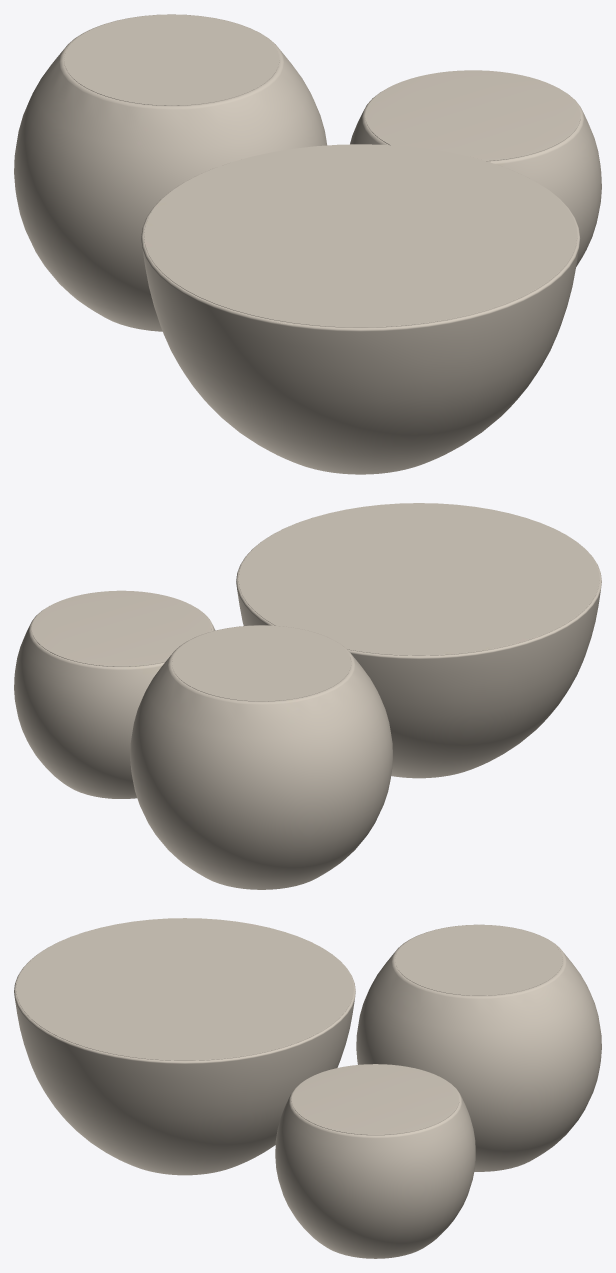
The model's file is 1_tavolino.glb.
3 views of the same model, one above another, from view 1: azimuth 30°, elevation 25°; view 2: azimuth 150°, elevation 25°; view 3: azimuth 270°, elevation 25° (orthographic). The views are drawn at different scales.
Parts seen in each view (by area): view 1: g_BONGOTB4_IN_0_0_G10; view 2: g_BONGOTB4_IN_0_0_G10; view 3: g_BONGOTB4_IN_0_0_G10.
Part boxes in pixels (<box>): g_BONGOTB4_IN_0_0_G10: <box>14,14,601,474</box>; g_BONGOTB4_IN_0_0_G10: <box>14,503,601,889</box>; g_BONGOTB4_IN_0_0_G10: <box>14,918,601,1258</box>.
Bounding box in the file's own units: 1.06 × 0.4519 × 1.3.
Materials: 1 (1 with a texture image).
